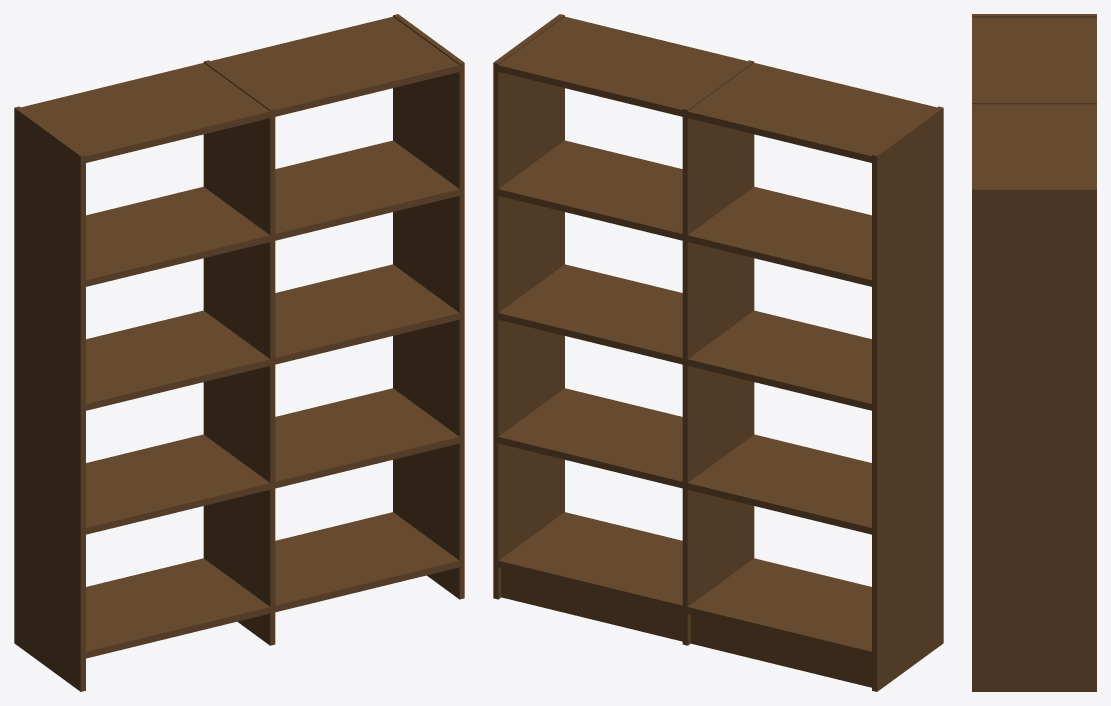
The model's file is parametric-shelf-1st-pub.glb.
3 renders of one model, left to right at view 1: azimuth 30°, elevation 25°; view 2: azimuth 150°, elevation 25°; view 3: azimuth 270°, elevation 25°, orthographic. The views are drawn at different scales.
Parts seen in each view (by area): view 1: parametric-shelf-1st-pub; view 2: parametric-shelf-1st-pub; view 3: parametric-shelf-1st-pub.
Boxes of the visible parts, box(x1,y1,x2,y2) form: parametric-shelf-1st-pub: box(14, 14, 464, 691); parametric-shelf-1st-pub: box(493, 14, 943, 691); parametric-shelf-1st-pub: box(972, 14, 1096, 691).
Size of the model in its own units: 1.5 by 2 by 0.45.
